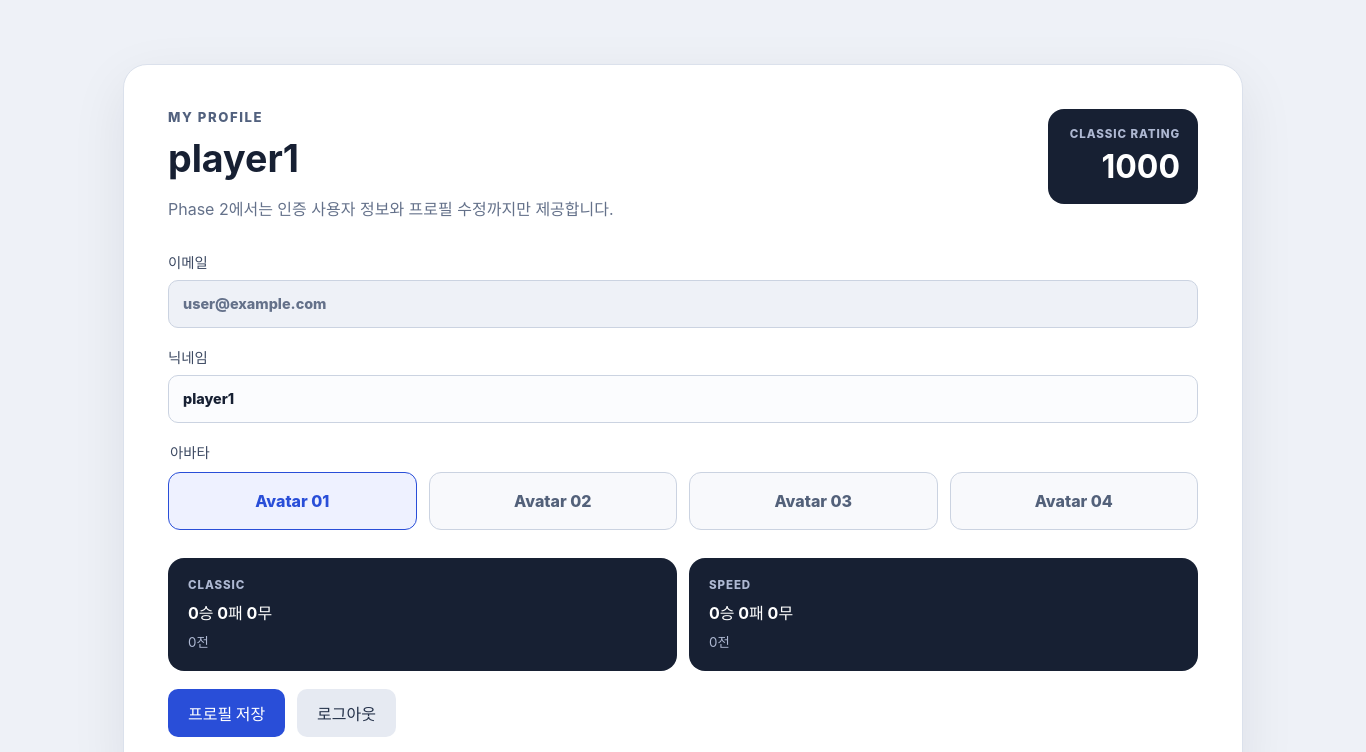
Test: authentication views › logoutFailureShowsSafeMessage
The image size is (1366, 752).
What coordinates should you click on to do the following:
click the button with class "secondary-button"
I would click on:
 (347, 713)
Its box is [297,689,396,737].
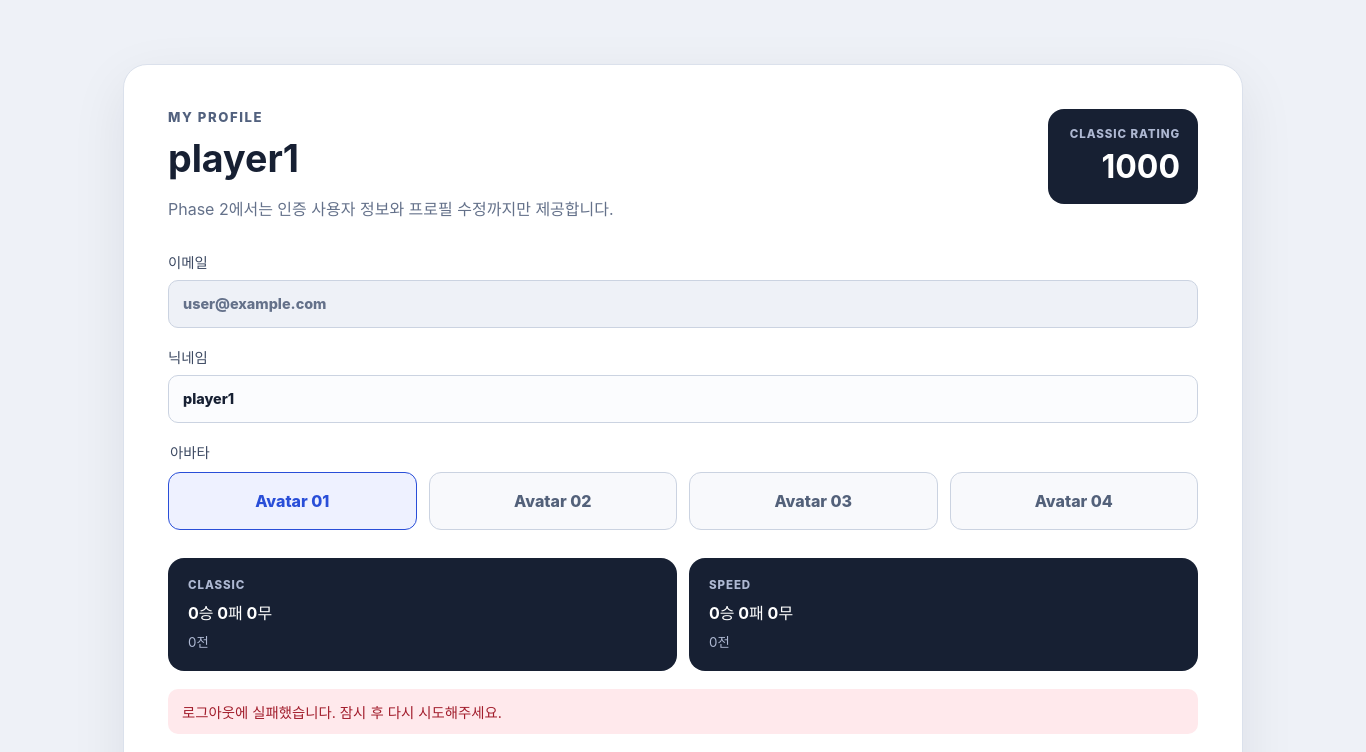
Now the text "로그아웃에 실패했습니다. 잠시 후 다시 시도해주세요." is shown, box [168,689,1198,734]
